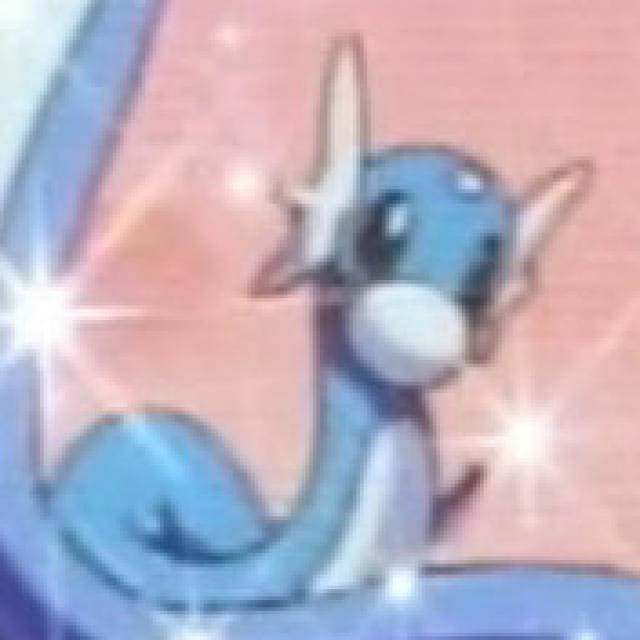Dratini: (211, 46, 554, 586)
